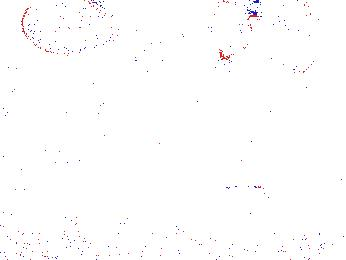moon jellyfish: (21, 1, 121, 56), (118, 28, 206, 88), (65, 73, 132, 139), (203, 8, 259, 65), (278, 10, 324, 76)
